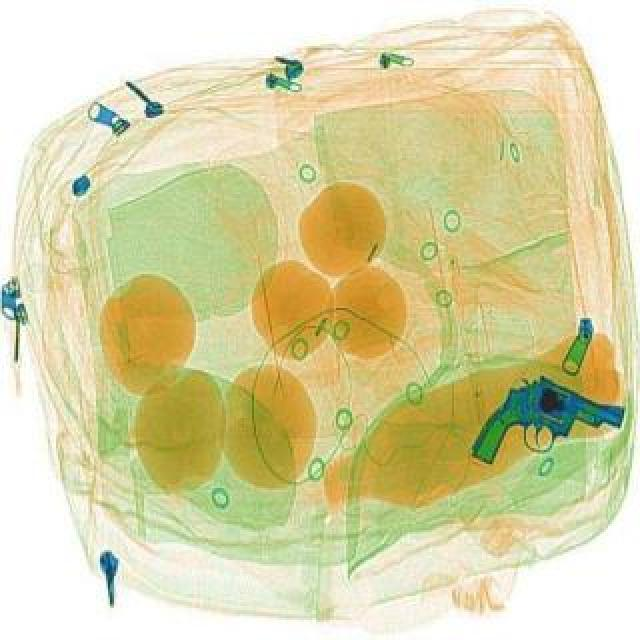gun: (464, 366, 632, 466)
